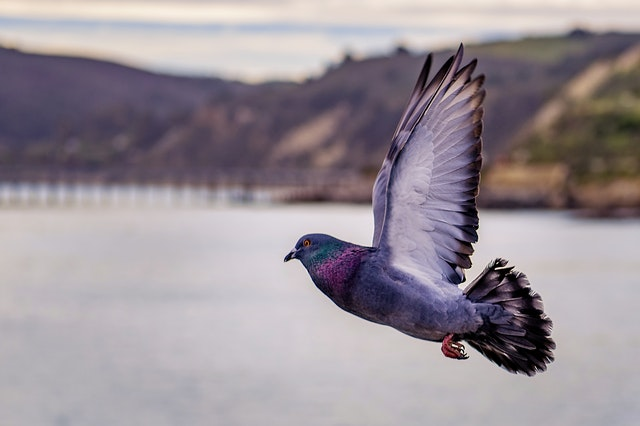bird: (284, 40, 556, 376)
